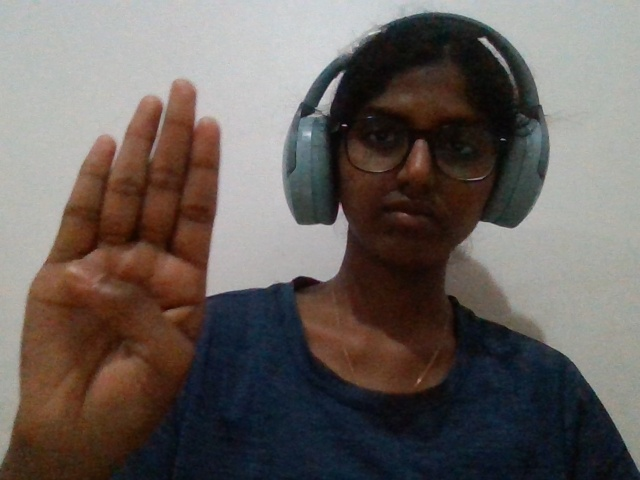B: (6, 61, 230, 480)
